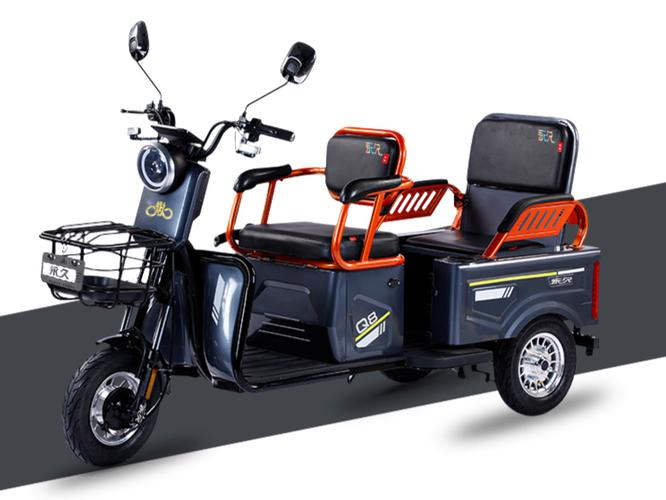empty: (36, 27, 612, 459)
